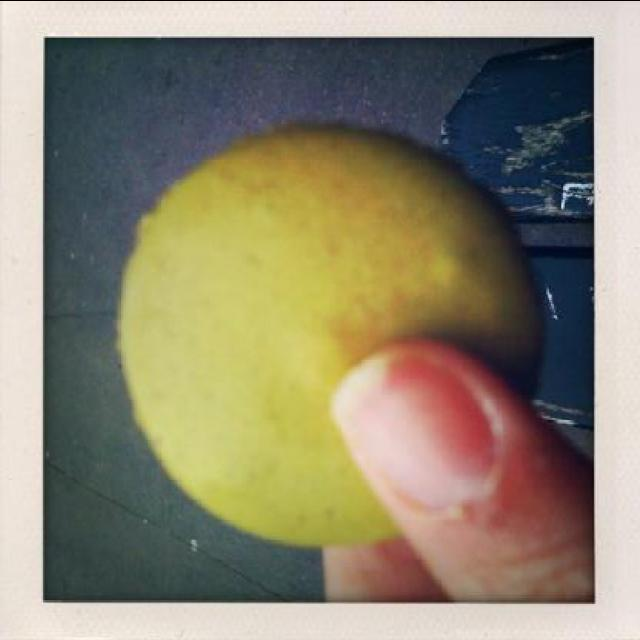Macaron: (110, 110, 548, 553)
